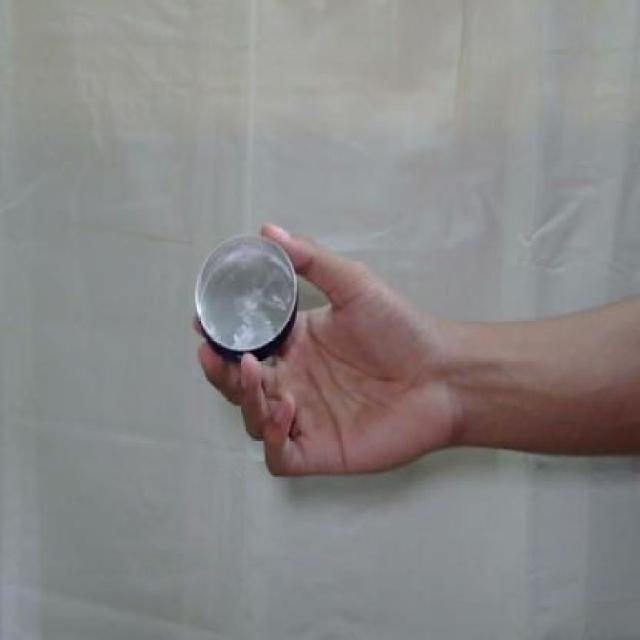Metal: (187, 226, 307, 365)
